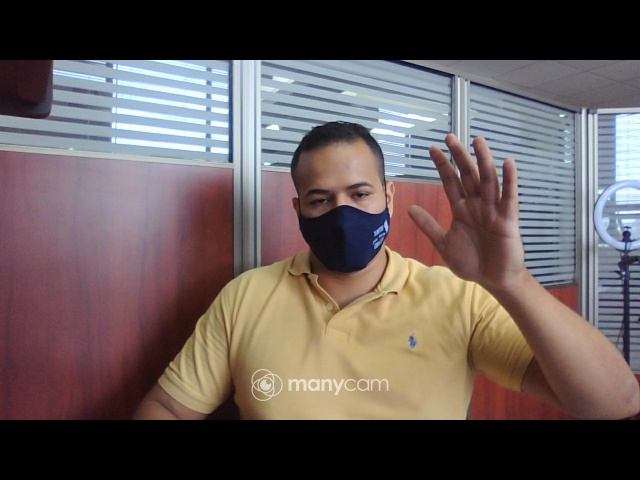Hello: (406, 131, 530, 297)
